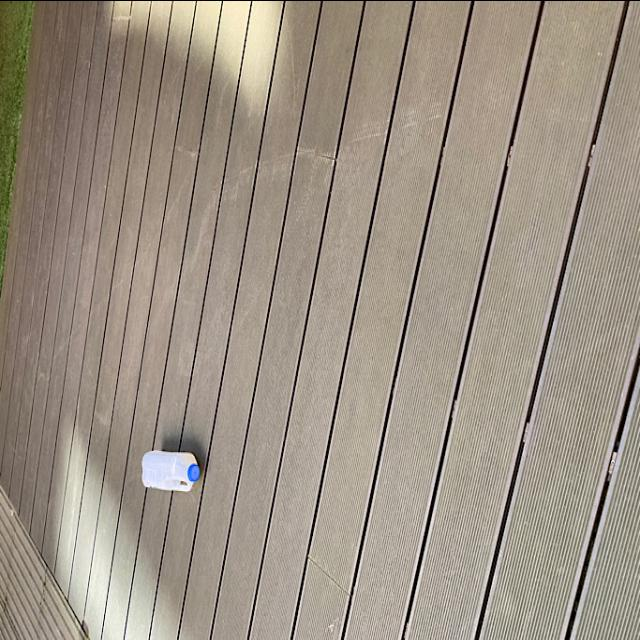litter: (140, 445, 202, 493)
